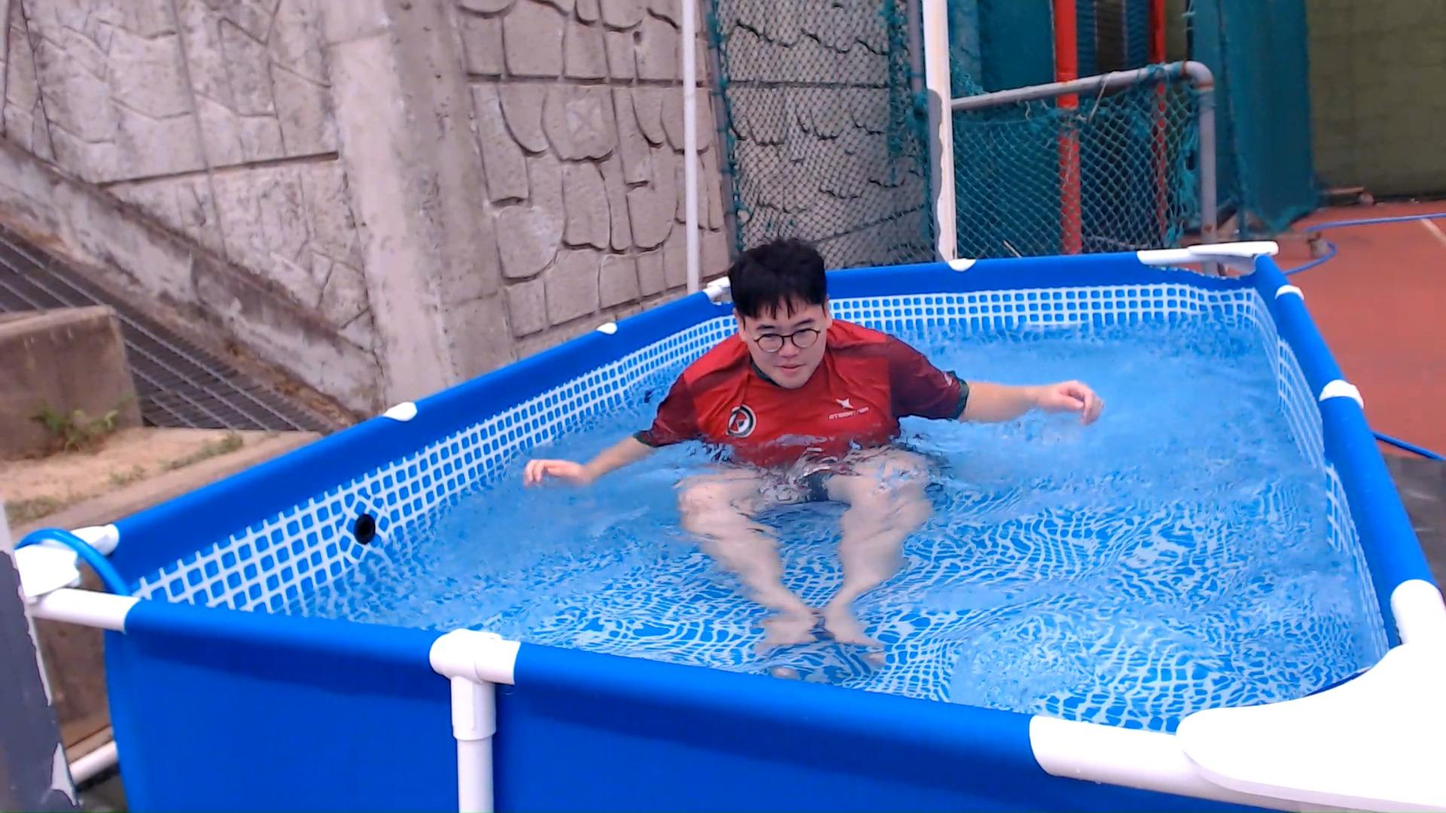Swimming: (449, 232, 1140, 645)
